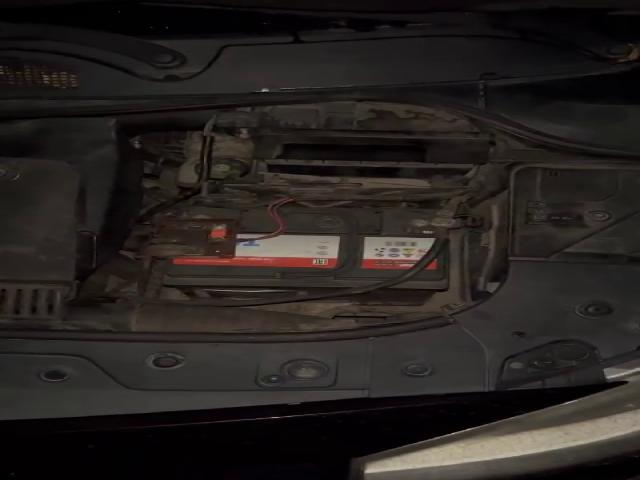accumulator: (137, 205, 452, 306)
fuse_box: (472, 162, 635, 264)
